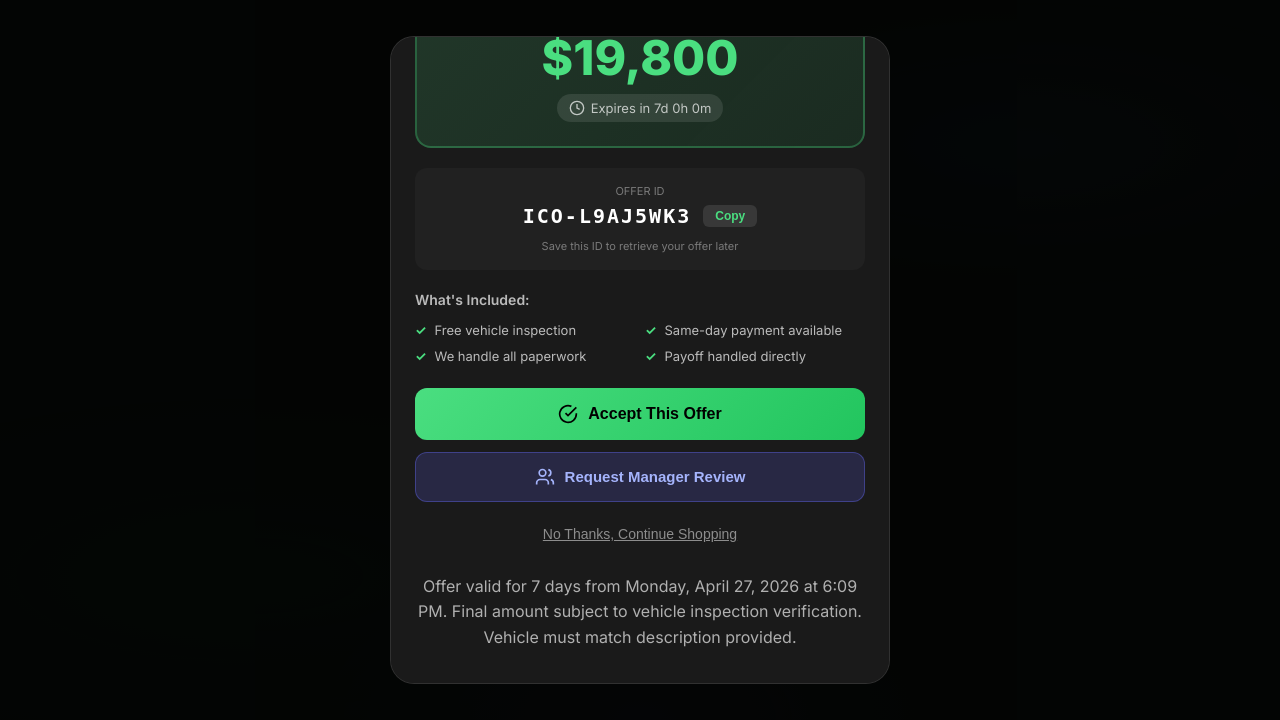
Test: InstantCashOffer Component › Accept Flow › submitting contact form shows confirmation
(page scrolled)
Click the button "Accept This Offer".
click(640, 414)  # box [415, 388, 865, 440]
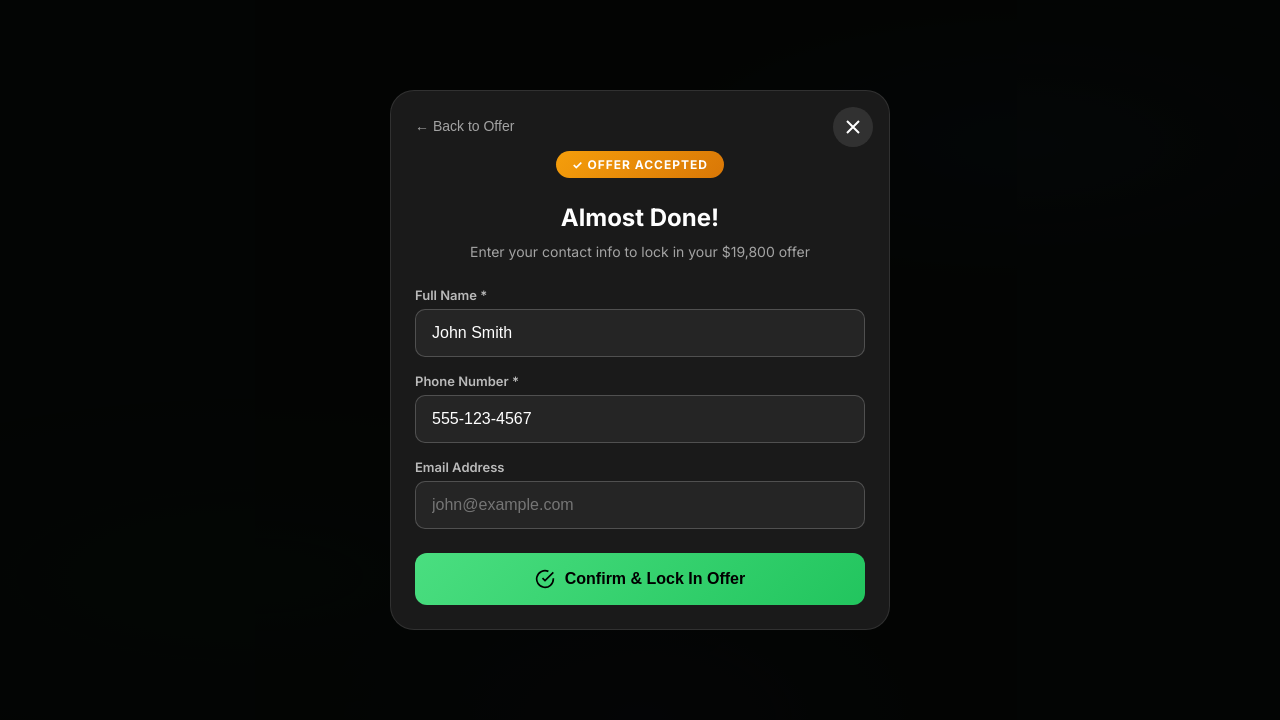
# Fill out form
Type "john@test.com" into the field with placeholder "john@example.com".
click(640, 505); type("john@test.com")  # box [415, 481, 865, 529]
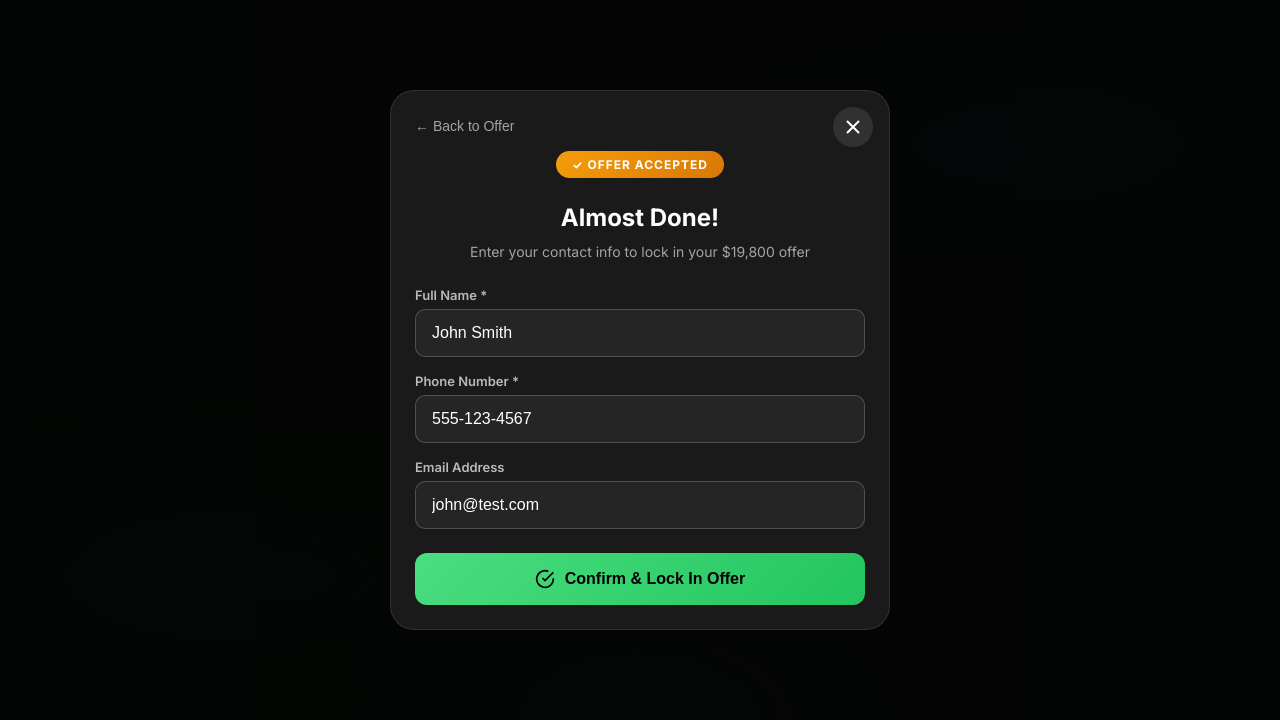
Click the button "Confirm & Lock In Offer".
click(640, 579)  # box [415, 553, 865, 605]
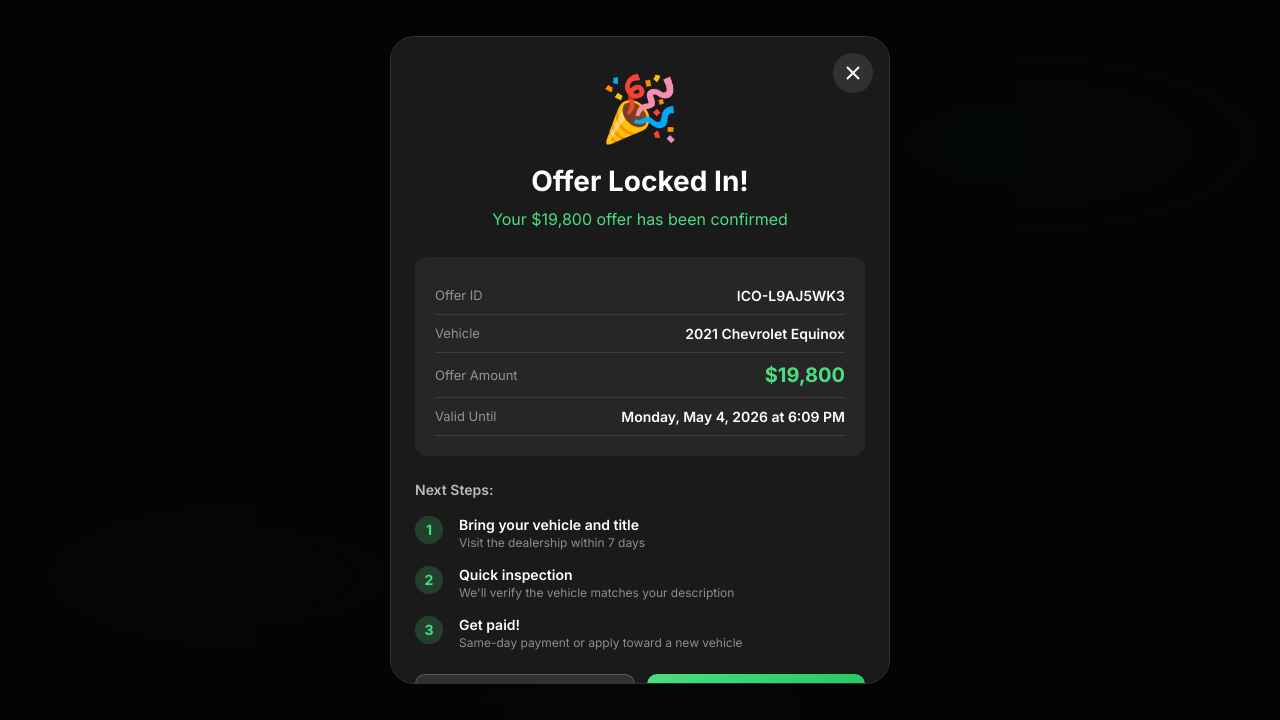
Expected: the heading "Offer Locked In!" is shown, [531, 164, 749, 198]
